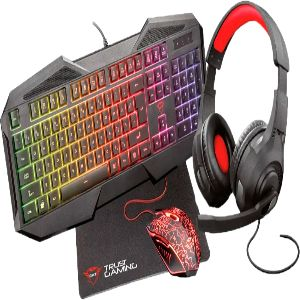headset: (195, 1, 290, 232)
keyboard: (6, 21, 212, 223)
mouse: (129, 209, 204, 281)
